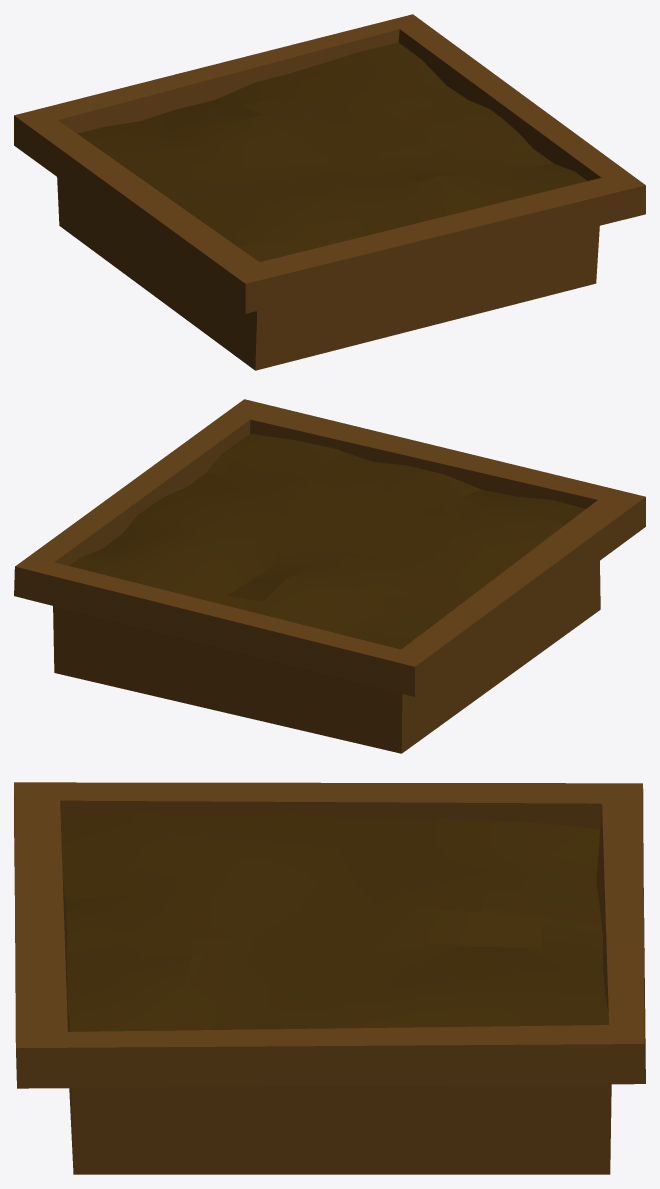
Rendered from GrowPlot.fbx.
The picture shows the model from 3 angles, top to bottom: view 1: azimuth 30°, elevation 25°; view 2: azimuth 150°, elevation 25°; view 3: azimuth 270°, elevation 25°; orthographic projection. The views are drawn at different scales.
Parts seen in each view (by area): view 1: Cube; view 2: Cube; view 3: Cube.
Boxes of the visible parts, x1,y1,x2,y2 form: Cube: (14, 14, 645, 370); Cube: (14, 399, 645, 753); Cube: (14, 782, 645, 1174).
Bounding box in the file's own units: 582 × 153 × 583.
